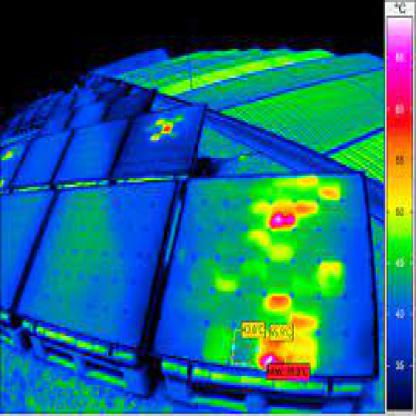Defects: (270, 209, 294, 231), (270, 300, 294, 314), (264, 351, 278, 365)
